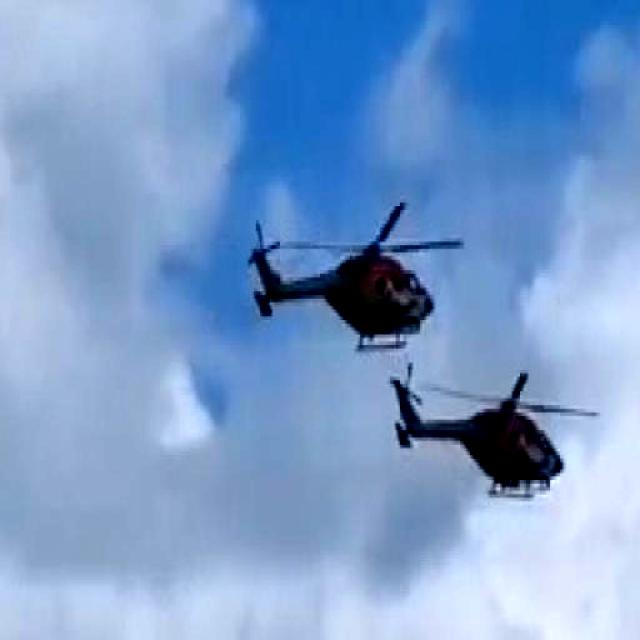drone: (389, 352, 585, 528), (244, 194, 448, 344)
